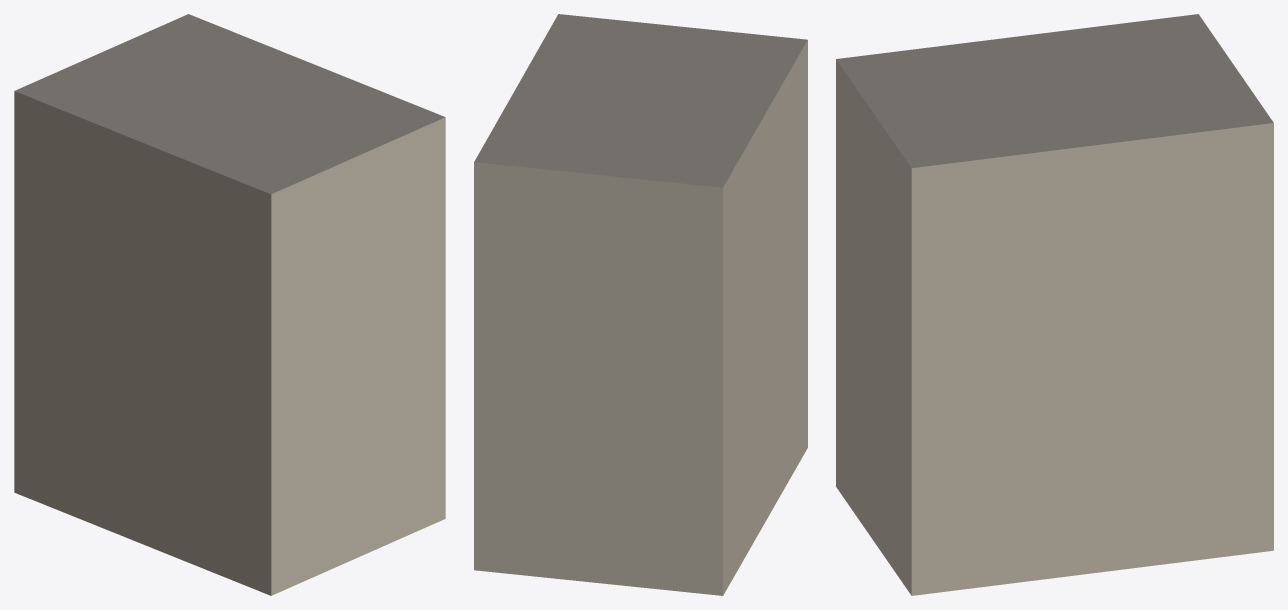
The picture shows the model from 3 angles, left to right: view 1: azimuth 30°, elevation 25°; view 2: azimuth 150°, elevation 25°; view 3: azimuth 270°, elevation 25°; orthographic projection. The views are drawn at different scales.
Parts seen in each view (by area): view 1: HP-w446934334; view 2: HP-w446934334; view 3: HP-w446934334.
Boxes of the visible parts, x1=… form: HP-w446934334: x1=14, y1=14, x2=445, y2=595; HP-w446934334: x1=474, y1=14, x2=807, y2=595; HP-w446934334: x1=836, y1=14, x2=1273, y2=595.
Size of the model in its own units: 13.92 by 18 by 16.7.
